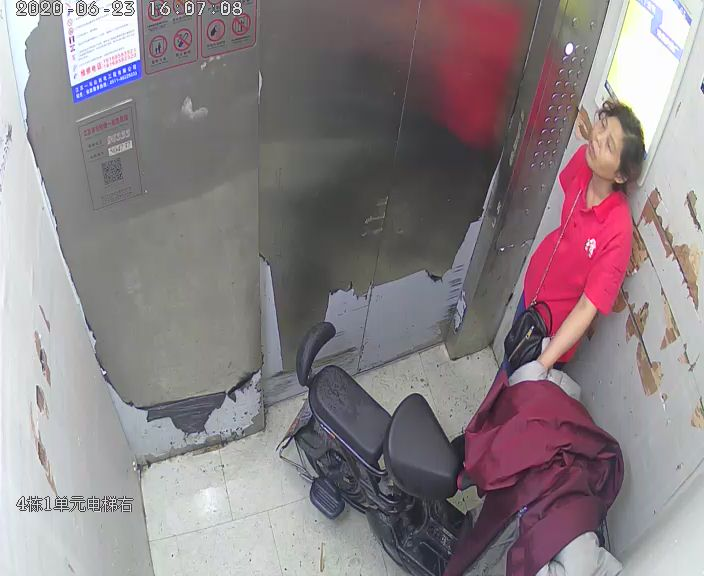Electric-bicycle: (289, 321, 609, 565)
